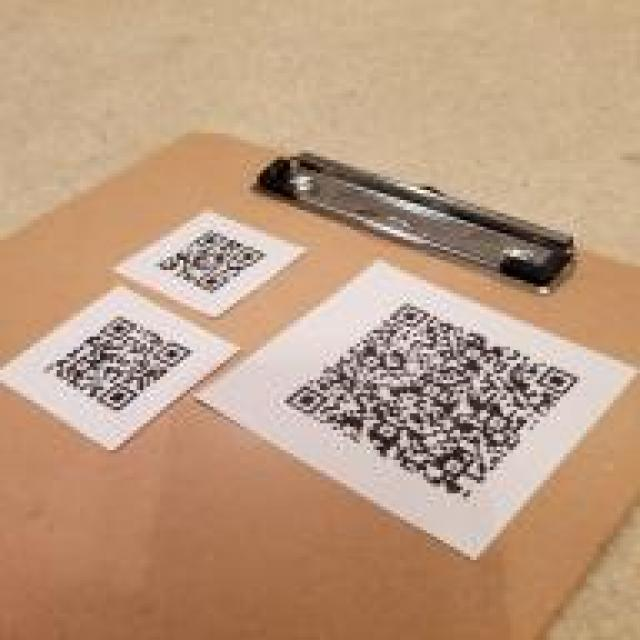QR_CODE: (277, 290, 590, 507), (32, 310, 203, 417), (145, 220, 280, 300)
